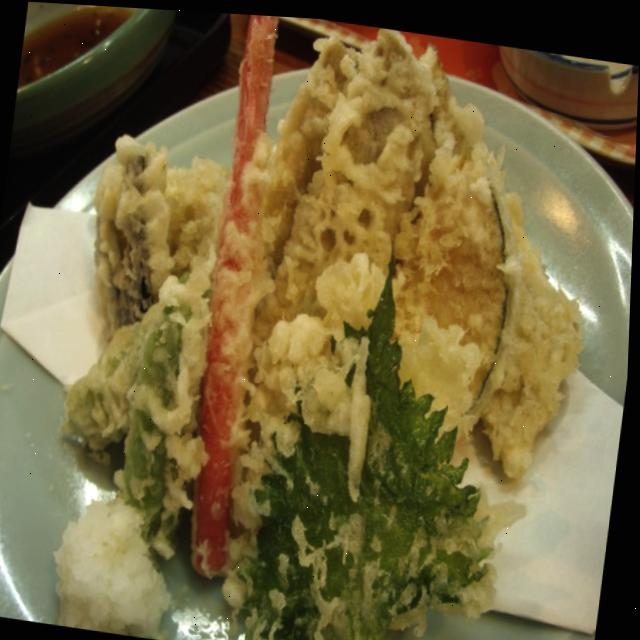蔬菜料理: (33, 2, 630, 640)
